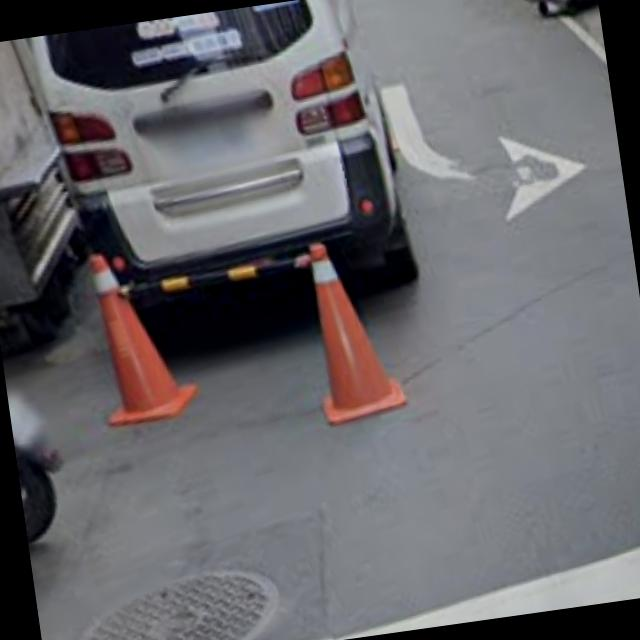cone: (297, 222, 409, 426), (79, 239, 197, 426)
